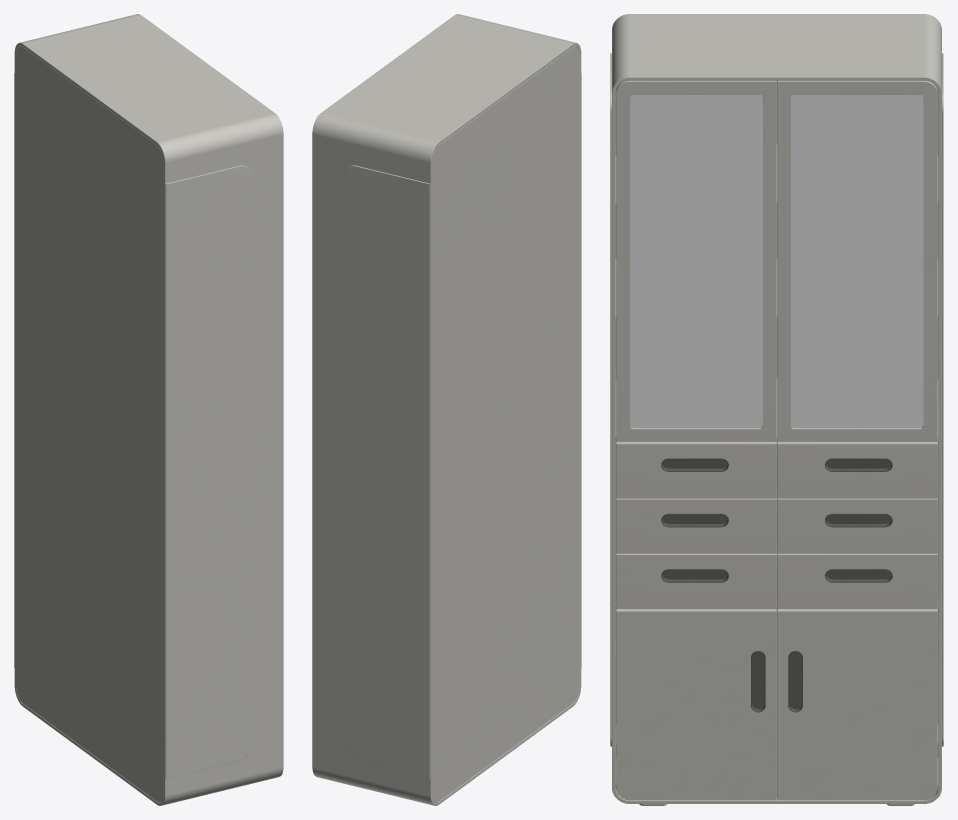
File: cabinet_file_a01.glb
The picture shows the model from 3 angles, left to right: view 1: azimuth 30°, elevation 25°; view 2: azimuth 150°, elevation 25°; view 3: azimuth 270°, elevation 25°; orthographic projection. The views are drawn at different scales.
Parts seen in each view (by area): view 1: body_01_mesh_00; view 2: body_01_mesh_00; view 3: glass_01_mesh_00, glass_02_mesh_00, body_01_mesh_00, door_01_mesh_00, door_02_mesh_00, door_03_mesh_00, door_04_mesh_00, drawer_01_mesh_00, drawer_02_mesh_00, drawer_03_mesh_00, drawer_04_mesh_00, drawer_05_mesh_00 (+1 smaller).
Part boxes in pixels (<box>): body_01_mesh_00: <box>14,14,283,805</box>; body_01_mesh_00: <box>312,14,581,805</box>; glass_01_mesh_00: <box>791,94,923,427</box>; glass_02_mesh_00: <box>630,94,762,427</box>; body_01_mesh_00: <box>610,14,943,805</box>; door_01_mesh_00: <box>777,609,938,800</box>; door_02_mesh_00: <box>615,609,776,800</box>; door_03_mesh_00: <box>615,80,776,441</box>; door_04_mesh_00: <box>777,80,938,441</box>; drawer_01_mesh_00: <box>616,441,776,498</box>; drawer_02_mesh_00: <box>777,441,937,498</box>; drawer_03_mesh_00: <box>616,498,776,553</box>; drawer_04_mesh_00: <box>777,498,937,553</box>; drawer_05_mesh_00: <box>616,553,776,608</box>.
Size of the model in its own units: 0.3747 by 2 by 0.8259.
4 materials, 3 textured.
